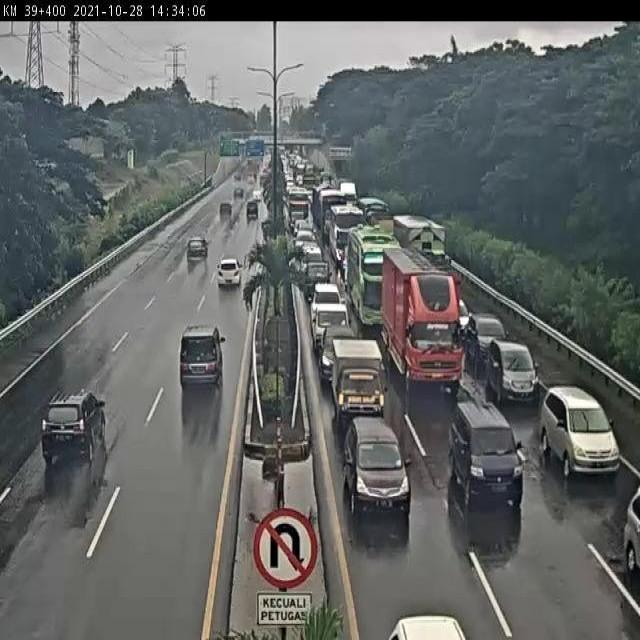big bus: (348, 228, 401, 329), (322, 202, 362, 258), (286, 186, 308, 226)
big truck: (380, 247, 459, 393), (392, 212, 456, 284), (318, 190, 347, 238), (362, 198, 391, 225)
car: (441, 396, 520, 501), (535, 373, 619, 471), (339, 412, 407, 511), (331, 336, 388, 423), (42, 389, 108, 460), (486, 336, 538, 403), (180, 325, 228, 388), (310, 299, 352, 357), (320, 331, 361, 386), (466, 313, 508, 360), (298, 258, 330, 298), (307, 283, 346, 308), (447, 293, 470, 335), (216, 256, 243, 291), (185, 236, 210, 269), (296, 238, 320, 266), (244, 203, 259, 228), (294, 222, 312, 242), (249, 186, 266, 206), (216, 201, 231, 220)
